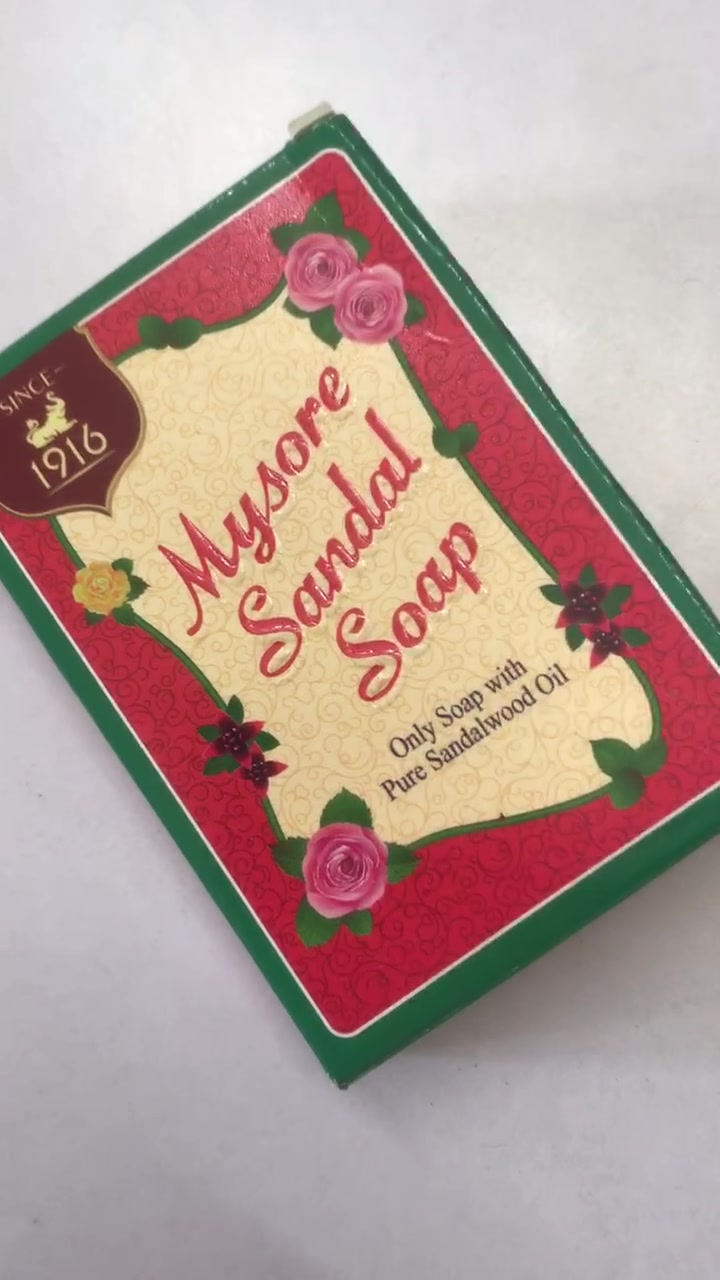mysore sandal soap: (6, 118, 720, 1091)
